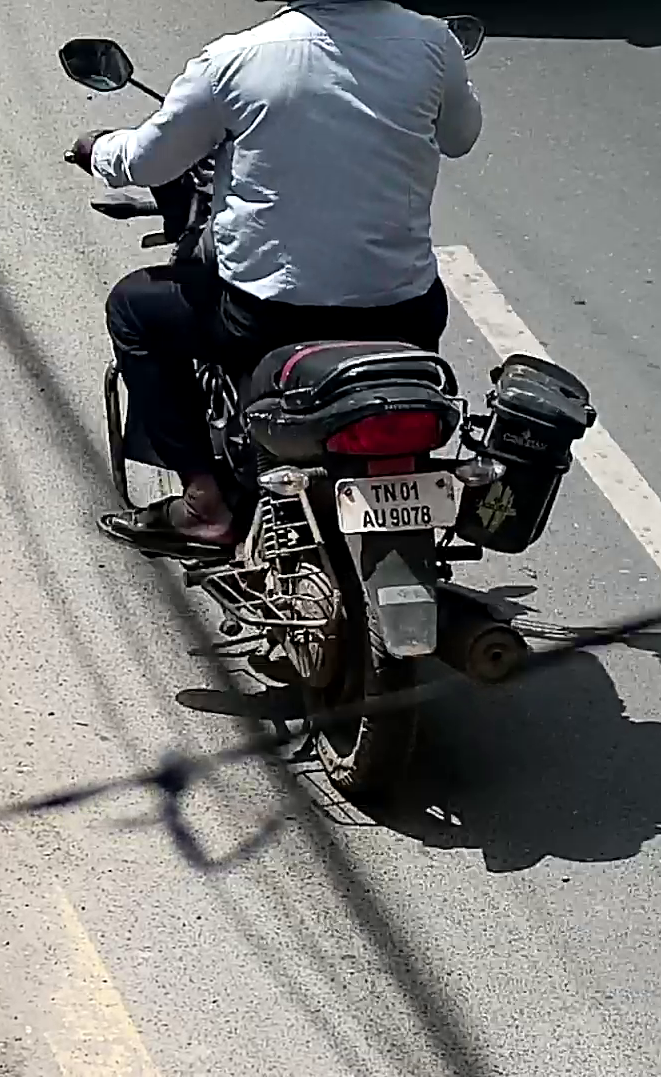0: (399, 482, 410, 501), (401, 507, 410, 526)
1: (410, 481, 420, 500)
7: (410, 506, 420, 525)
8: (421, 505, 431, 524)
9: (389, 507, 400, 527)
A: (362, 510, 374, 527)
N: (383, 482, 397, 502)
P16: (334, 470, 459, 537)
T: (370, 484, 382, 504)
U: (374, 508, 386, 528)
